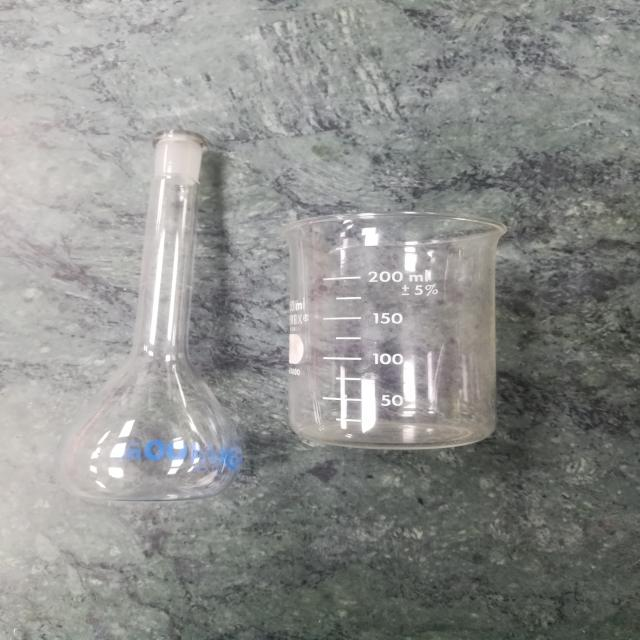Beaker: (286, 197, 524, 469)
Volumetric_Flask: (65, 92, 261, 528)
